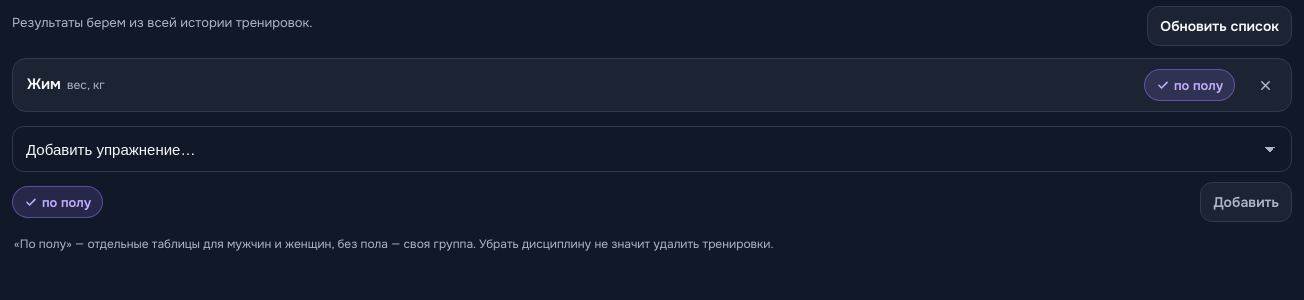
управление дисциплинами › «по полу» и ✕ видны сразу, список не пропадает; ошибка — откат (fb_c6b5ce77)
Click the checkbox named "Раздельно по полу" at (1190, 85), box 1144,69 -> 1235,101
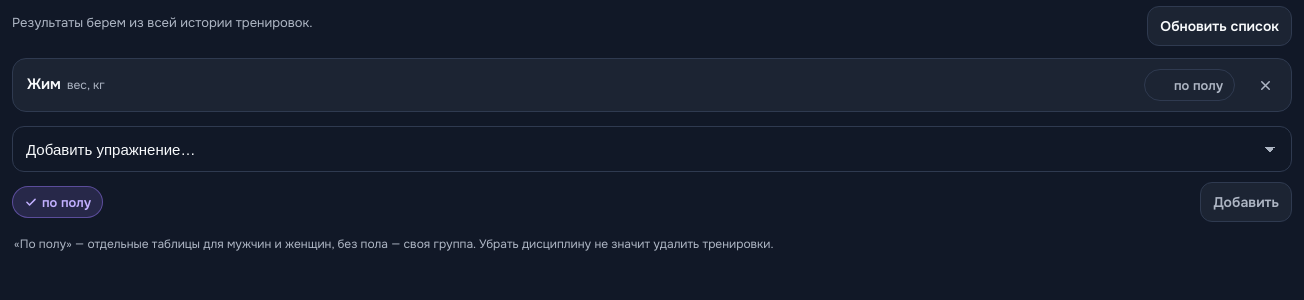
Expected: the button with aria-label "Добавить дисциплину" reads "Добавить", 1200,182 -> 1292,222
Result: the checkbox named "Раздельно по полу" is not checked at 1144,69 -> 1235,101
Click the button named "Убрать из рейтинга: Жим" at (1265, 85), box 1243,63 -> 1287,107
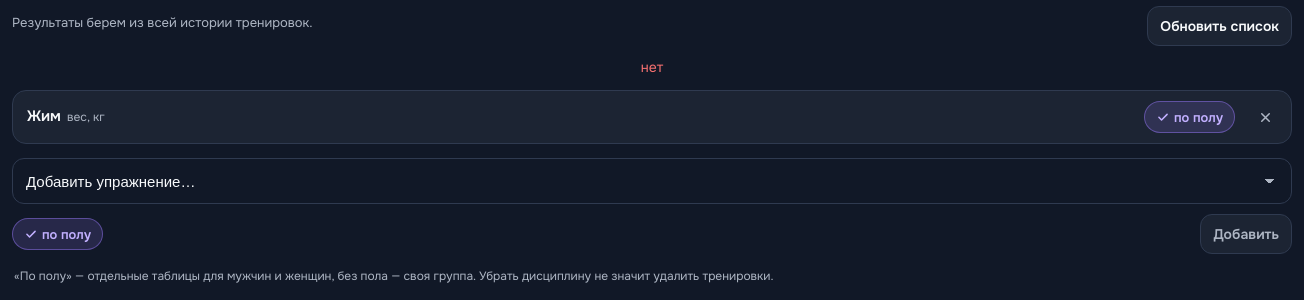
Expected: the button named "Убрать из рейтинга: Жим" is shown, 1243,95 -> 1287,139
Result: the message reads "нет" at 641,58 -> 663,76
Result: the checkbox named "Раздельно по полу" is checked at 1144,101 -> 1235,133
